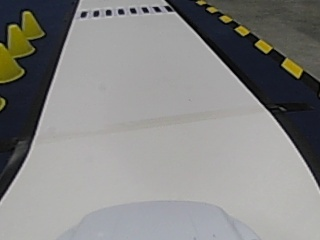crosswalk: (77, 5, 173, 17)
